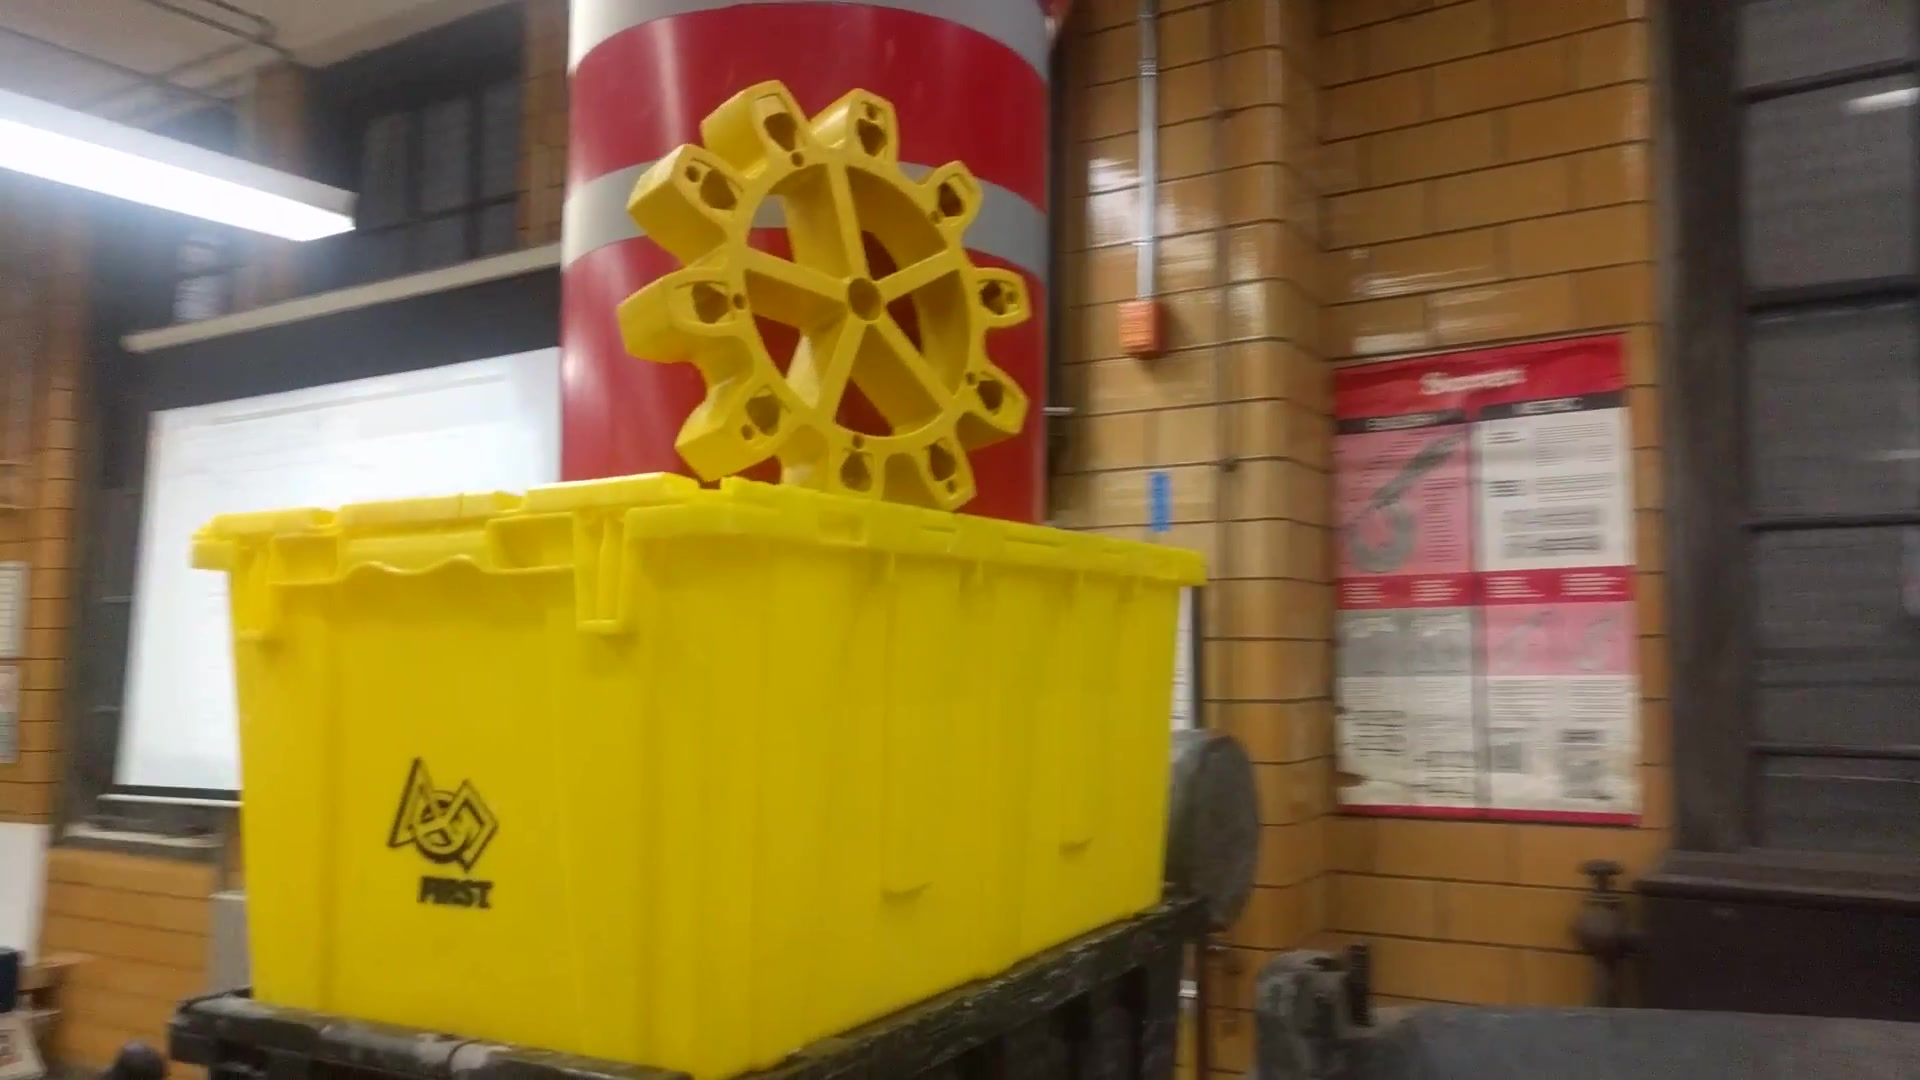gear: (595, 63, 1044, 553)
